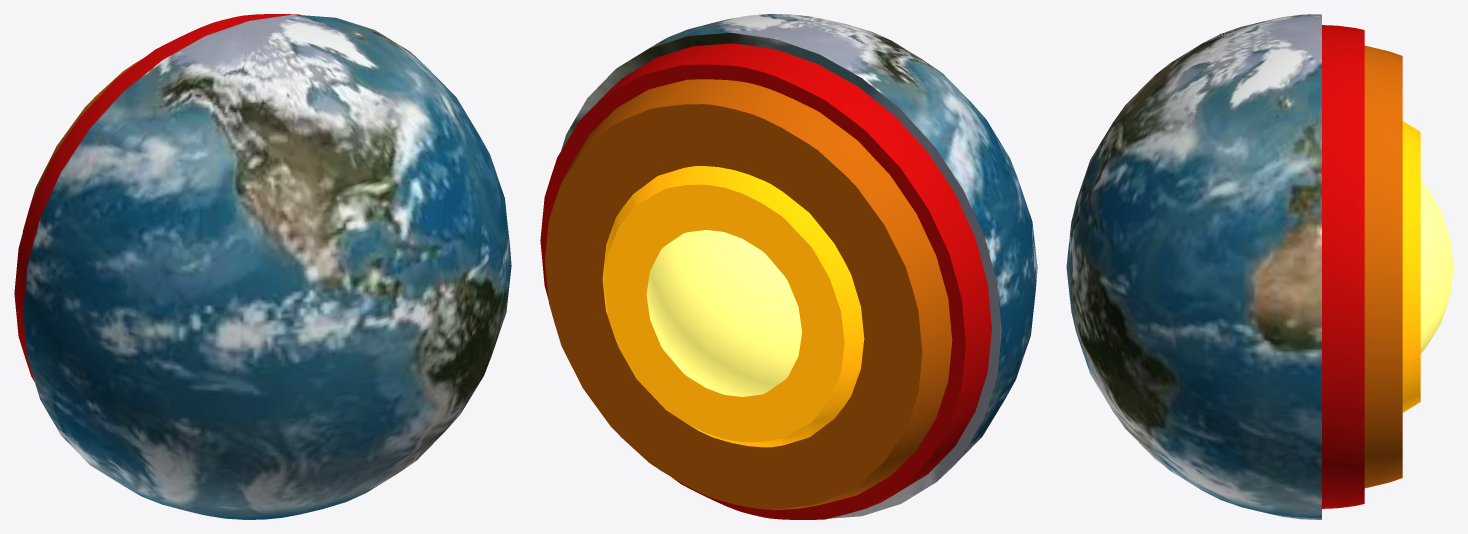
Rendered from earth2.glb.
The picture shows the model from 3 angles, left to right: view 1: azimuth 30°, elevation 25°; view 2: azimuth 150°, elevation 25°; view 3: azimuth 270°, elevation 25°; orthographic projection. The views are drawn at different scales.
Visible parts, largest first — view 1: Sphere, Sphere.001; view 2: Sphere.002, Sphere.003, Sphere, Sphere.001, Sphere.004; view 3: Sphere, Sphere.001, Sphere.002, Sphere.003, Sphere.004.
Boxes of the visible parts, x1,y1,x2,y2 form: Sphere: (23,14,511,519); Sphere.001: (14,14,301,381); Sphere.002: (545,79,952,509); Sphere.003: (602,166,864,447); Sphere: (561,14,1037,518); Sphere.001: (540,43,991,519); Sphere.004: (646,230,802,396); Sphere: (1066,14,1321,519); Sphere.001: (1322,25,1364,508); Sphere.002: (1364,45,1402,488); Sphere.003: (1402,121,1420,412); Sphere.004: (1420,180,1453,353).
Size of the model in its own units: 10 by 10 by 7.64.
Materials: 5 (1 with a texture image).
